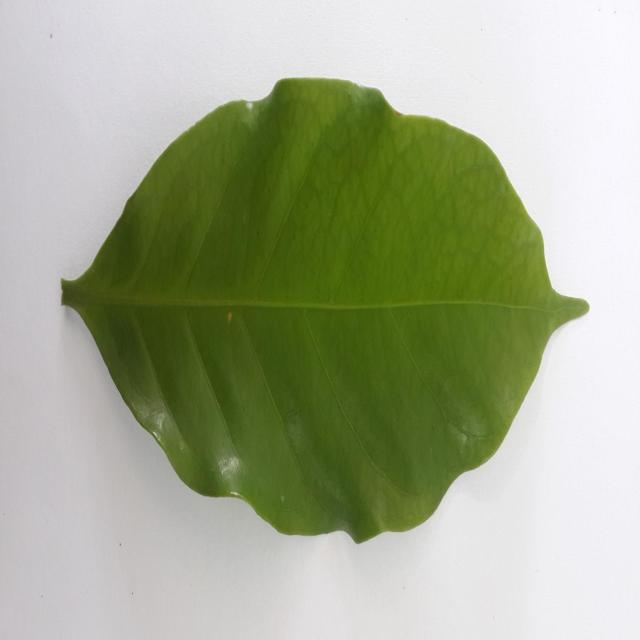Sanas: (60, 79, 590, 547)
